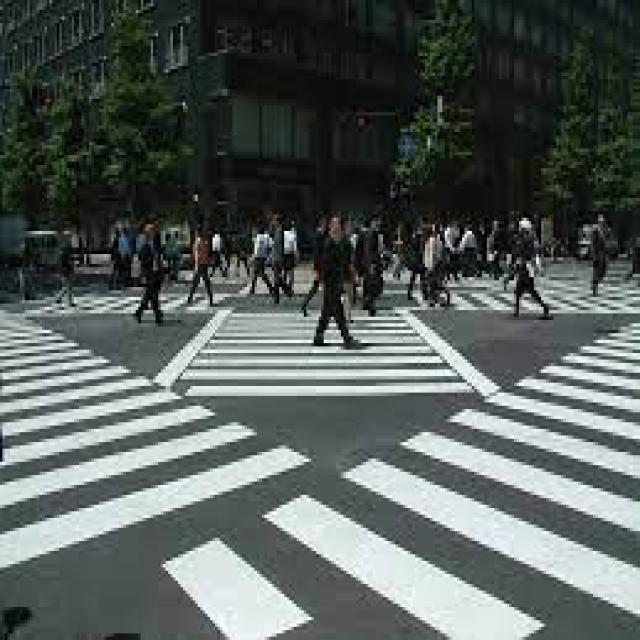Pedestrians: (306, 211, 366, 353), (509, 214, 549, 317), (129, 221, 168, 323)
